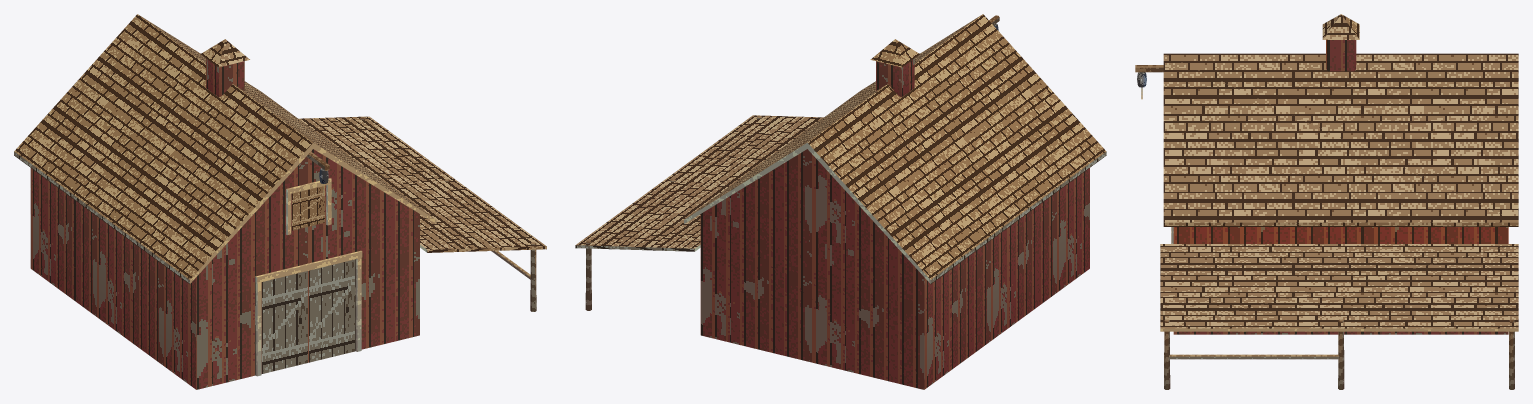
File: wtown.stable__wide.glb
3 renders of one model, left to right at view 1: azimuth 30°, elevation 25°; view 2: azimuth 150°, elevation 25°; view 3: azimuth 270°, elevation 25°, orthographic.
Parts seen in each view (by area): view 1: kit_roof, kit_body, kit_lean_to, kit_card_panes, kit_trim, kit_cupola, kit_cupola_cap; view 2: kit_body, kit_roof, kit_lean_to, kit_cupola, kit_cupola_cap; view 3: kit_roof, kit_lean_to, kit_body, kit_lean_rail, kit_cupola, kit_cupola_cap, kit_hoist.
Boxes of the visible parts, x1,y1,x2,y2 form: kit_roof: (14, 14, 436, 283); kit_body: (30, 149, 419, 389); kit_lean_to: (299, 116, 546, 311); kit_card_panes: (262, 186, 354, 373); kit_trim: (255, 178, 362, 376); kit_cupola: (206, 58, 244, 97); kit_cupola_cap: (200, 39, 249, 67); kit_body: (700, 149, 1089, 389); kit_roof: (684, 14, 1106, 283); kit_lean_to: (575, 115, 823, 310); kit_cupola: (876, 58, 914, 97); kit_cupola_cap: (870, 39, 919, 67); kit_roof: (1163, 53, 1518, 226); kit_lean_to: (1160, 244, 1518, 389); kit_body: (1173, 227, 1508, 334); kit_lean_rail: (1169, 354, 1339, 359); kit_cupola: (1326, 40, 1356, 71); kit_cupola_cap: (1322, 14, 1359, 39); kit_hoist: (1135, 65, 1163, 87).
Bounding box in the file's own units: 12.37 × 8.75 × 11.45.
Materials: 9 (9 with a texture image).
